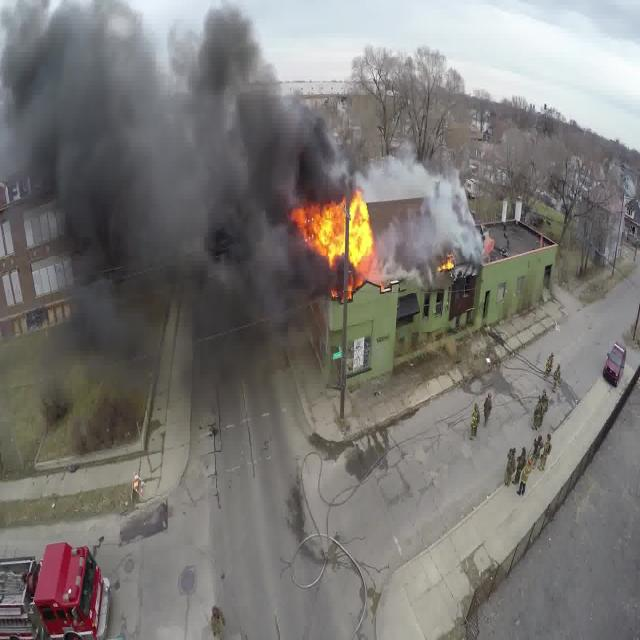Fire: (290, 194, 377, 270)
Smoke: (0, 1, 489, 366)
